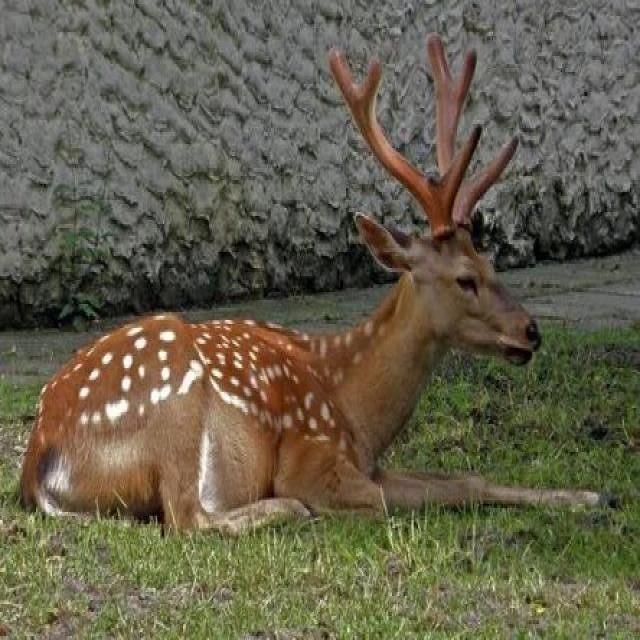deer: (0, 53, 501, 630)
